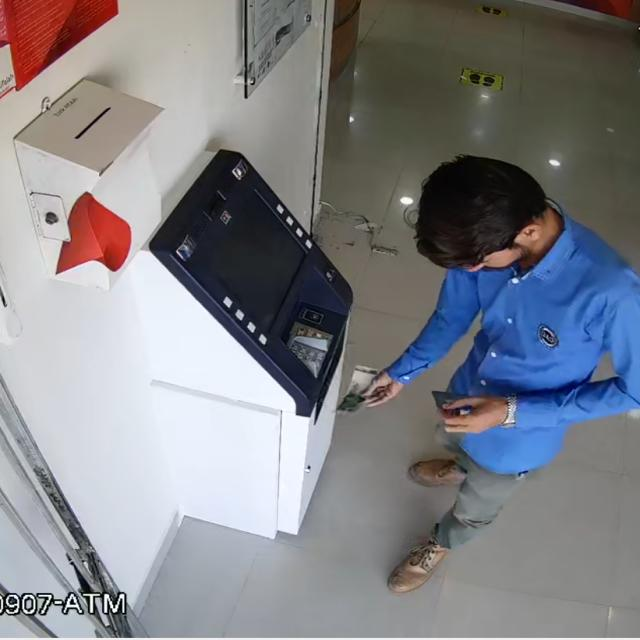note: (330, 359, 382, 422)
